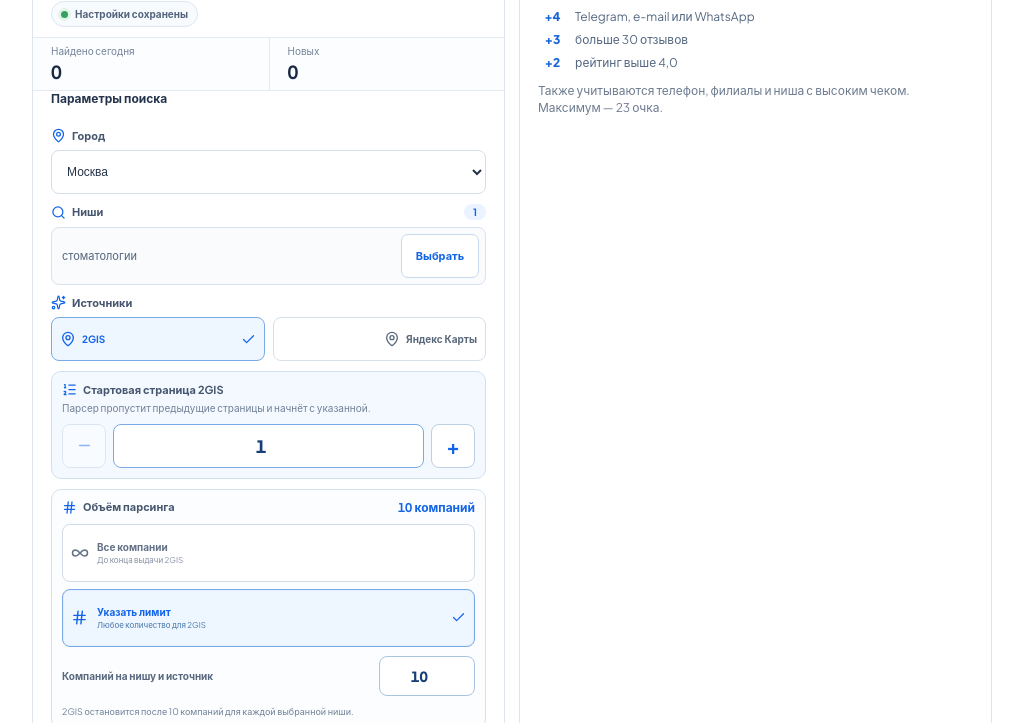
Test: client parser controls › explains why parsing is disabled when no source is selected
(page scrolled)
Click the button "2GIS" at (158, 339), box [51,317,264,361]
(page scrolled)
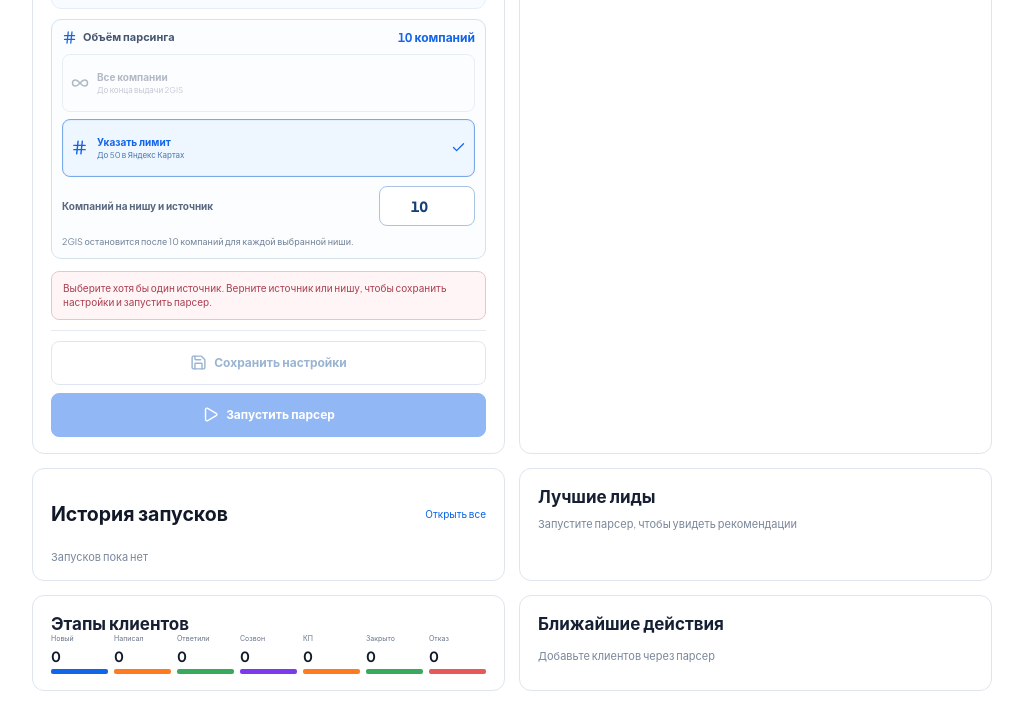
Expected: the message shows "Выберите хотя бы один источник", [63,282,222,294]
Expected: the button "Запустить парсер" is disabled, [51,393,486,437]
